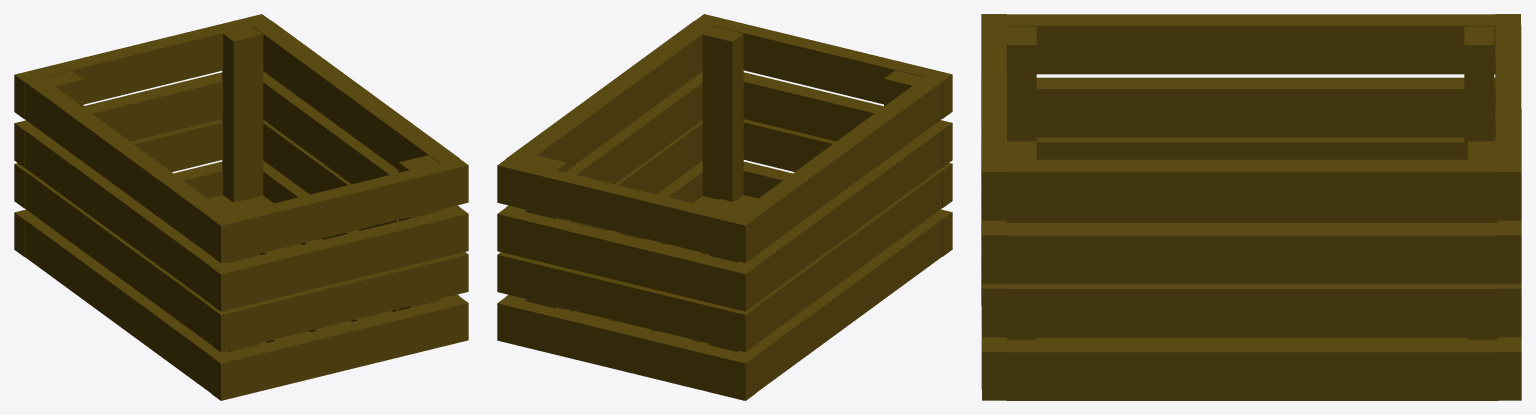
The model's file is Crate.fbx.
3 renders of one model, left to right at view 1: azimuth 30°, elevation 25°; view 2: azimuth 150°, elevation 25°; view 3: azimuth 270°, elevation 25°, orthographic. The views are drawn at different scales.
Parts seen in each view (by area): view 1: Cube.021; view 2: Cube.021; view 3: Cube.021.
Part boxes in pixels (left/top/right/bottom): Cube.021: left=14, top=14, right=468, bottom=400; Cube.021: left=497, top=14, right=952, bottom=400; Cube.021: left=981, top=14, right=1521, bottom=400.
Bounding box in the file's own units: 94.98 × 64.05 × 137.
